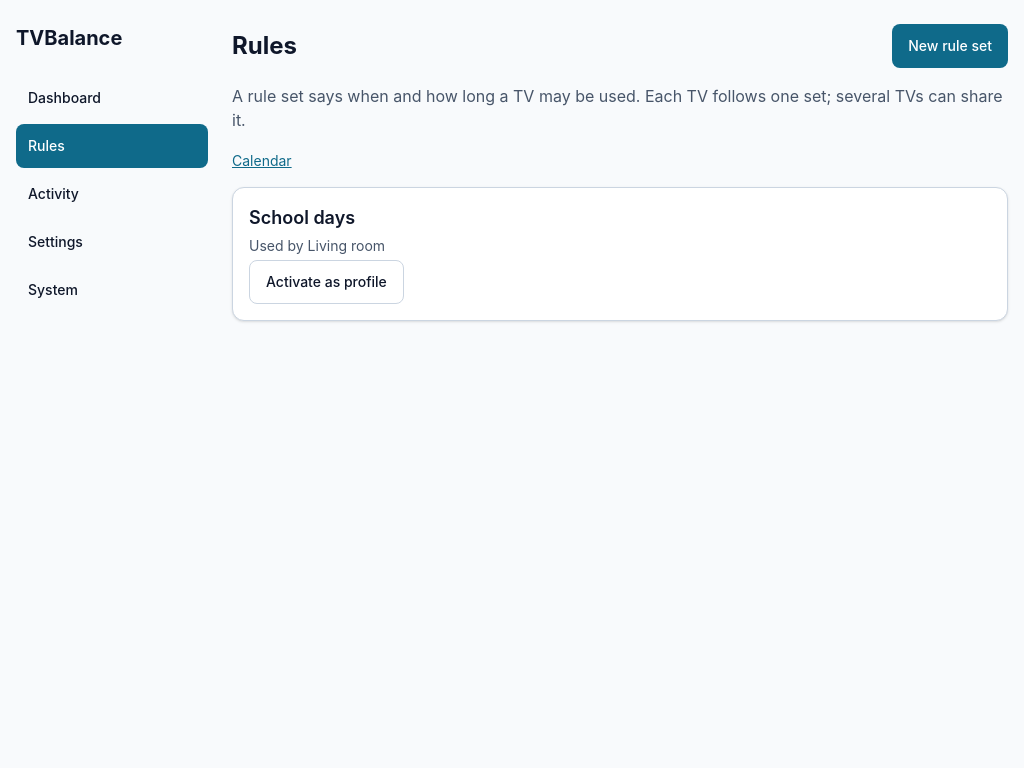
profiles › activates a rule set for a duration, leaving a TV out
Click the button with aria-label "Activate School days as profile" at (326, 282), box [249, 260, 404, 304]
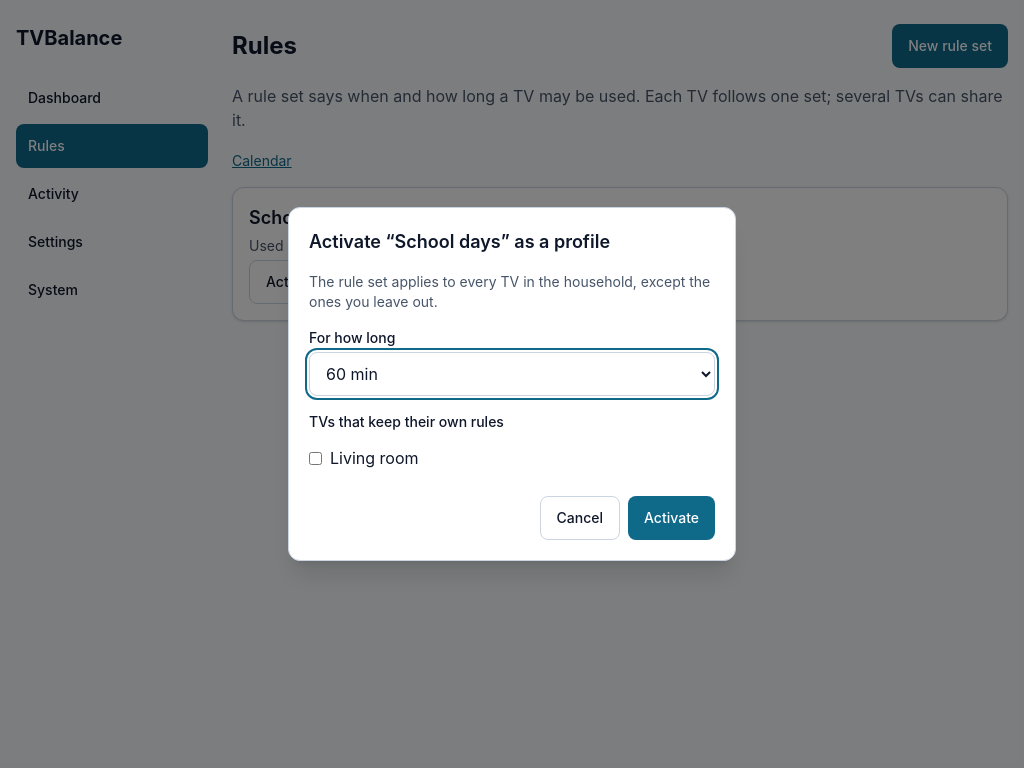
Click the checkbox labelled "Living room" at (316, 458), box [309, 452, 322, 464]
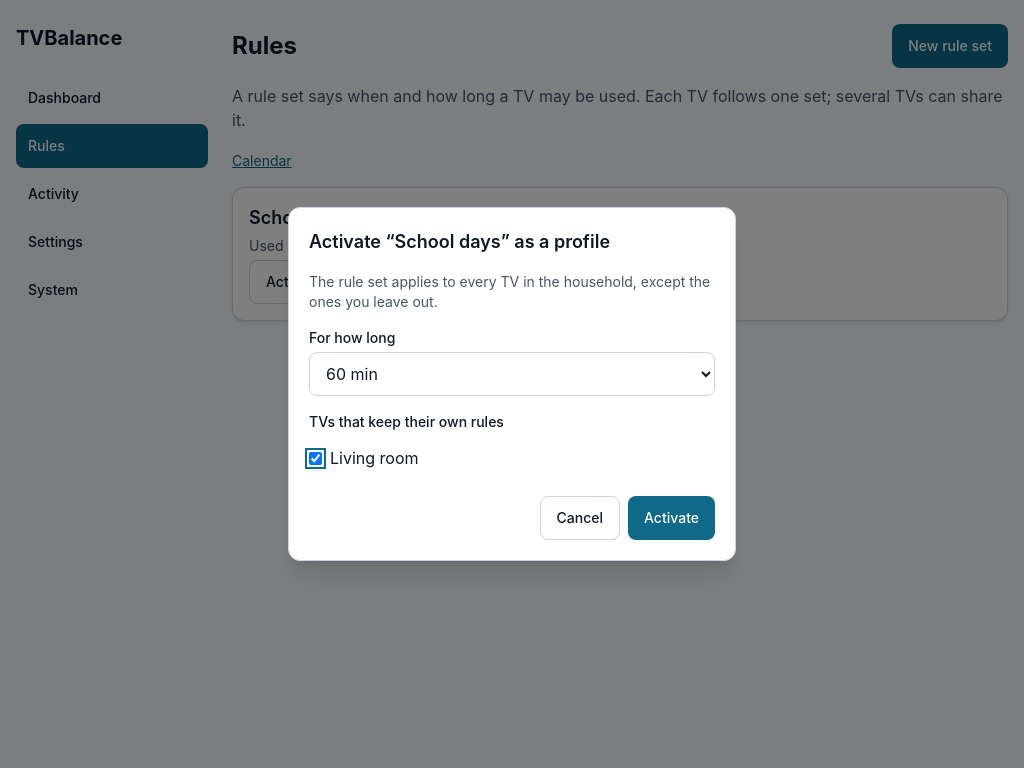
Select "120 min" in the dropdown labelled "For how long" at (512, 374), box [309, 352, 715, 396]
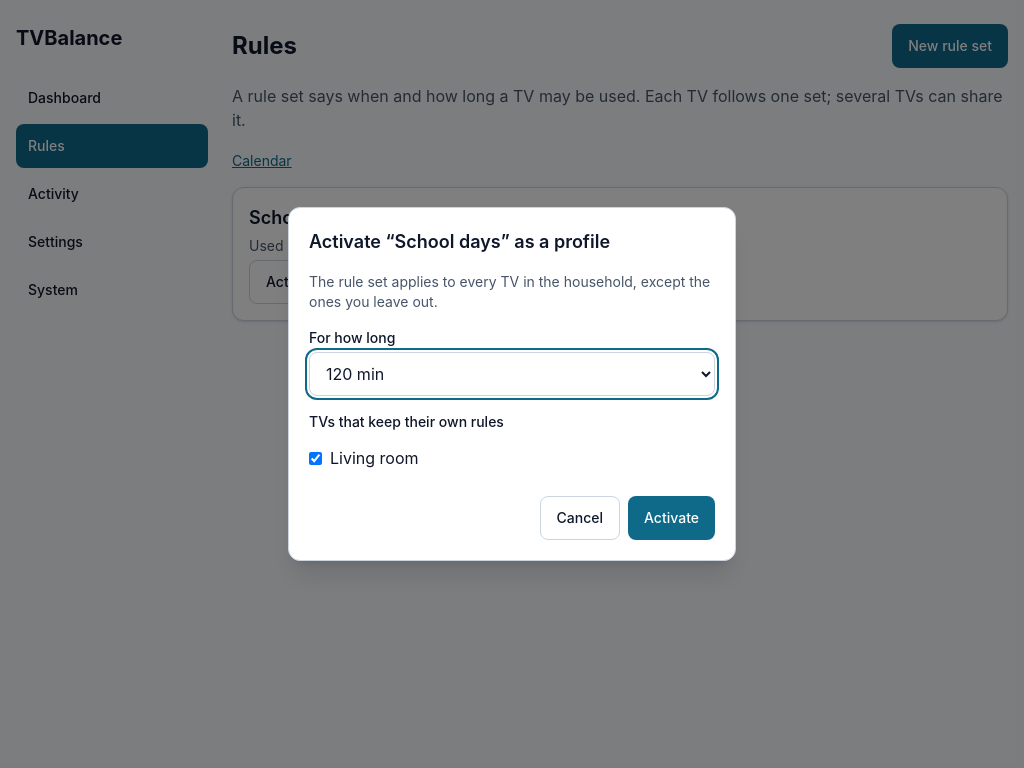
Click the button "Activate" at (672, 518), box [628, 496, 715, 540]
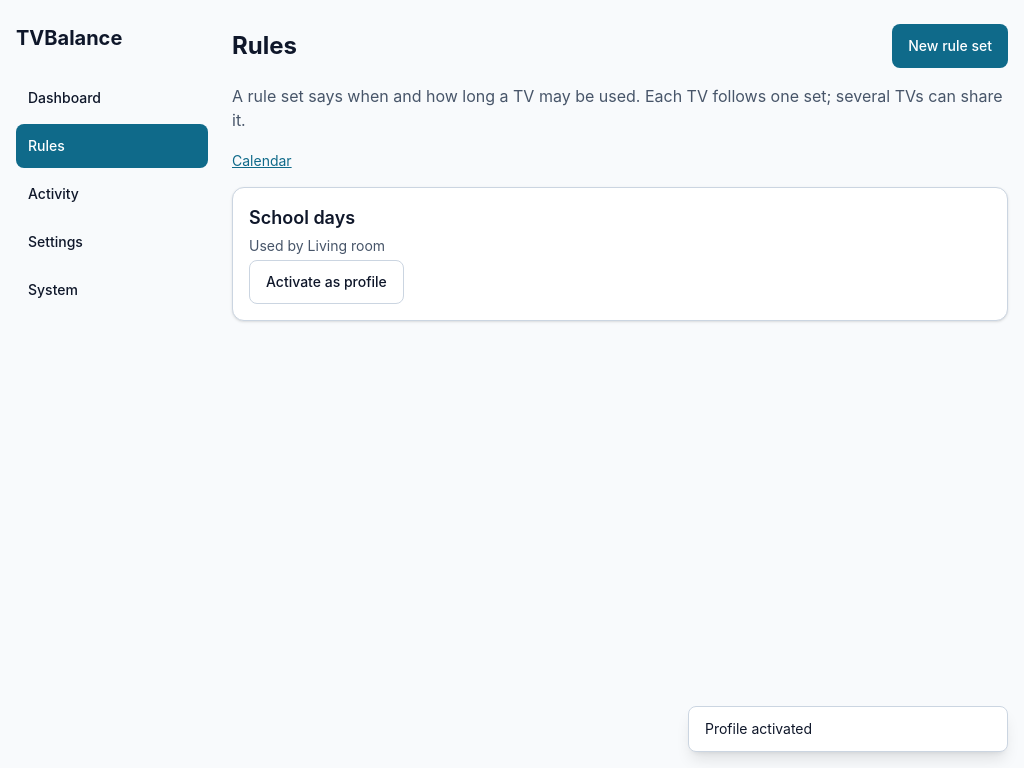
Check: the text "Profile activated" is shown, box [688, 706, 1008, 752]
